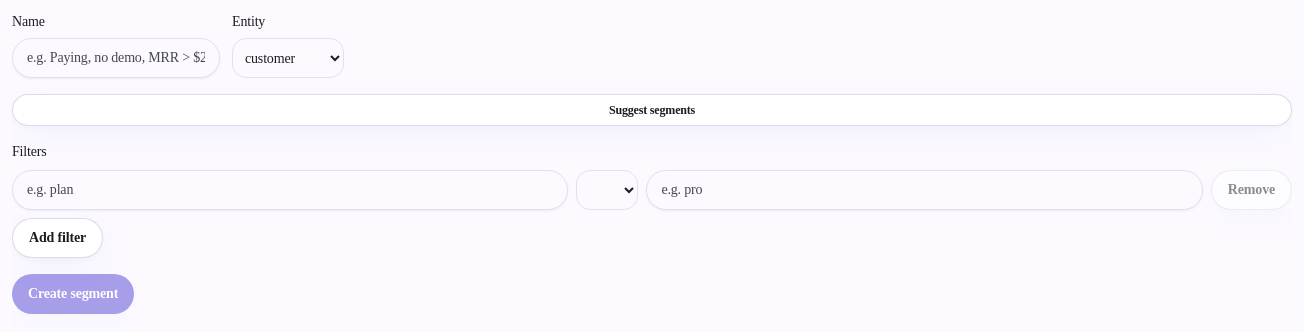
CreateSegmentForm › disables the submit button until name and every filter row is filled
Check: the button "Create segment" is disabled, box [12, 274, 134, 314]
Type "Pro customers" into the field labelled "Name" at (116, 58), box [12, 38, 220, 78]
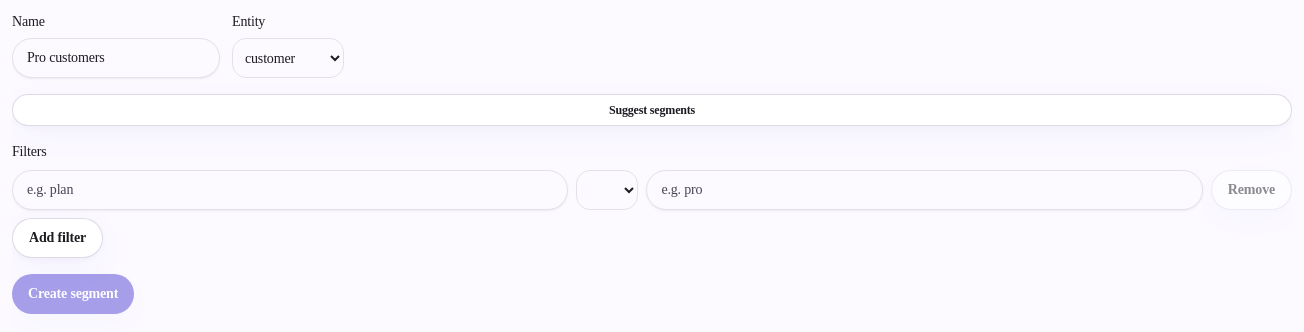
Check: the button "Create segment" is disabled, box [12, 274, 134, 314]
Type "plan" into the field named "Field" at (290, 190), box [12, 170, 568, 210]
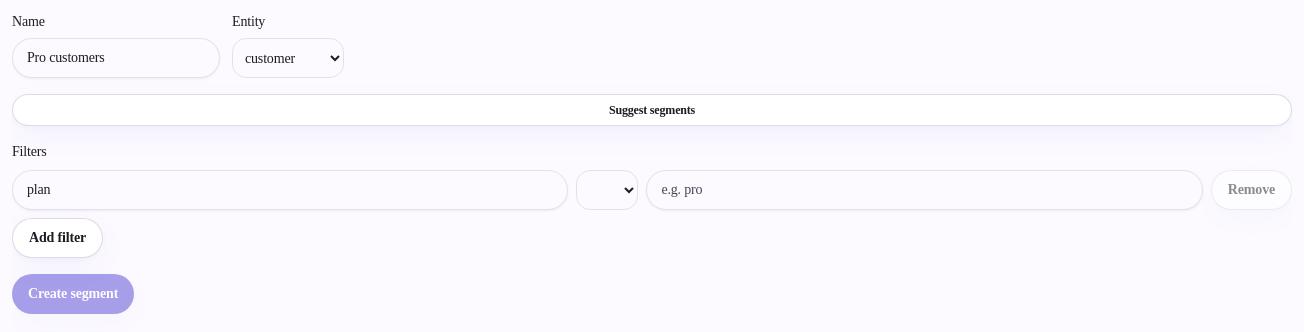
Type "pro" into the field named "Value" at (925, 190), box [646, 170, 1203, 210]
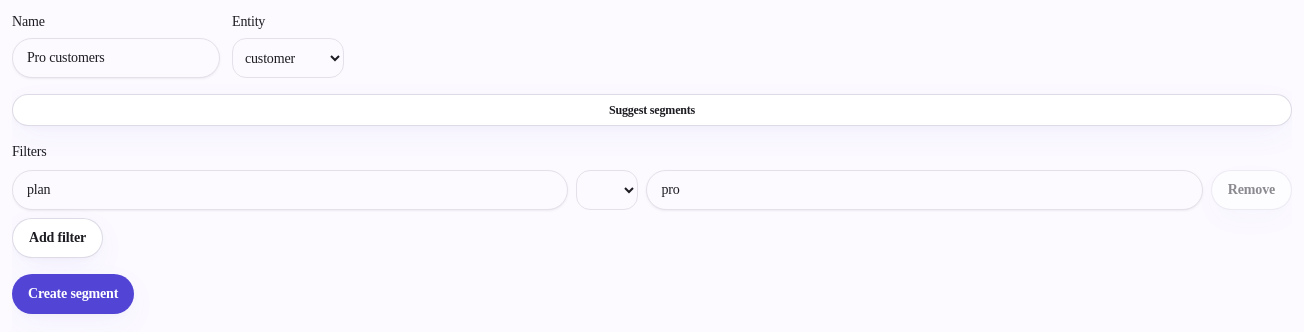
Check: the button "Create segment" is enabled, box [12, 274, 134, 314]
